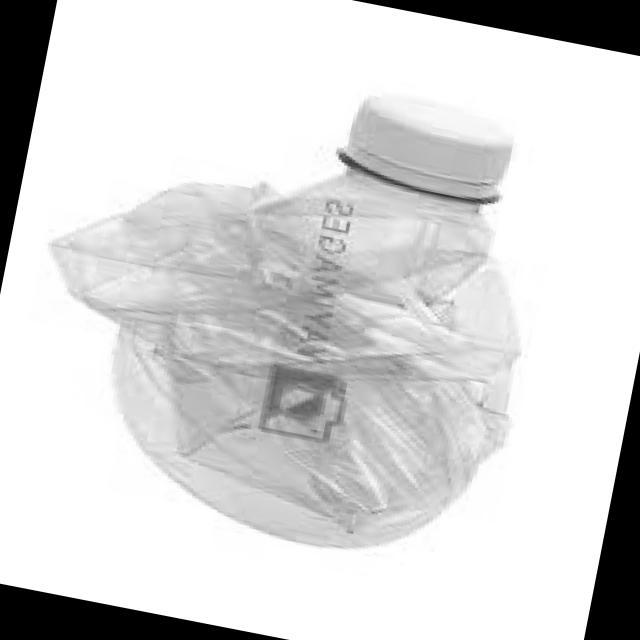defected: (6, 34, 576, 597)
